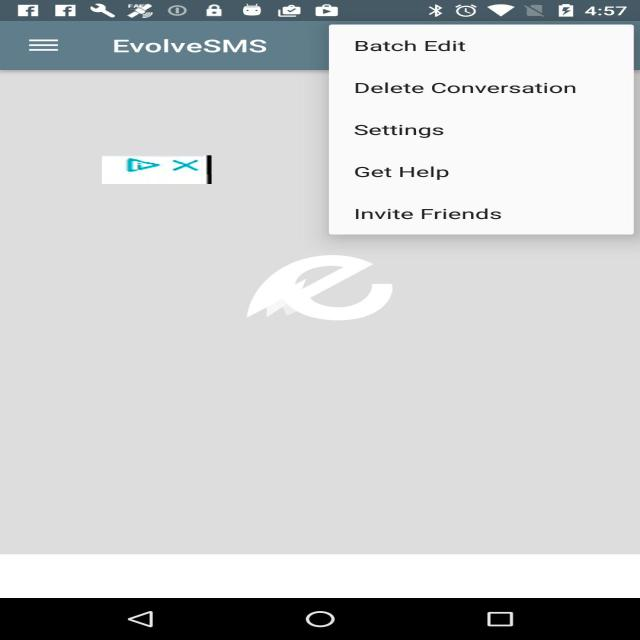sneaking: (102, 155, 211, 184)
